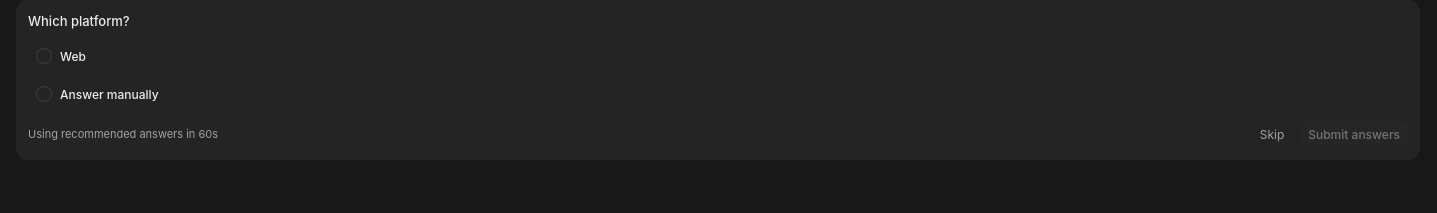
it: offers a manual answer as a choice and preserves multi-select=false
Later steps or results of the test are not shown.
Click the button "Web" at (44, 56), box [28,38,1408,74]
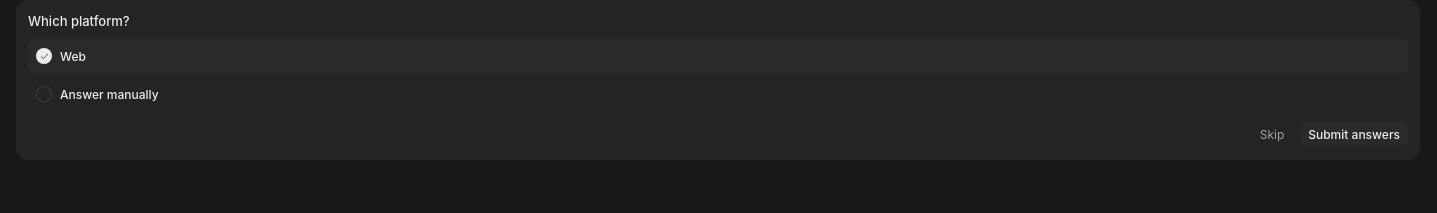
Click the button "Answer manually" at (109, 94), box [28,76,1408,112]
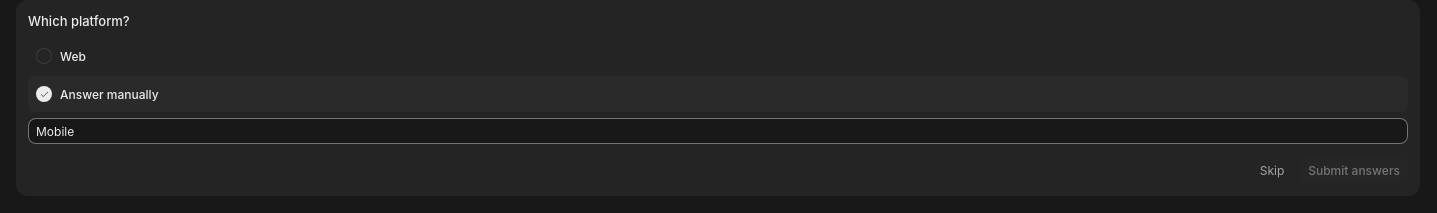
Now the button "Submit answers" is disabled, box [1300,158,1408,182]
